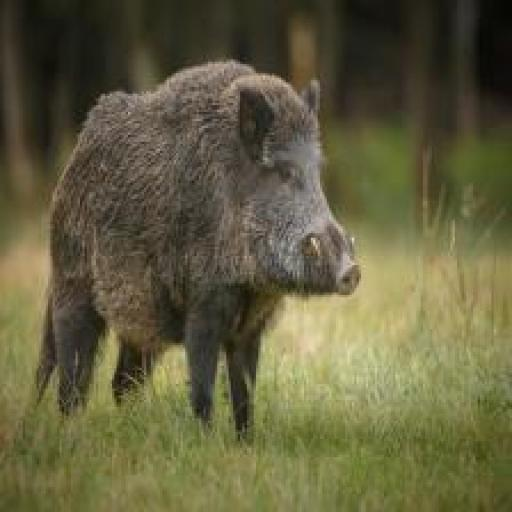Pig: (34, 60, 361, 442)
